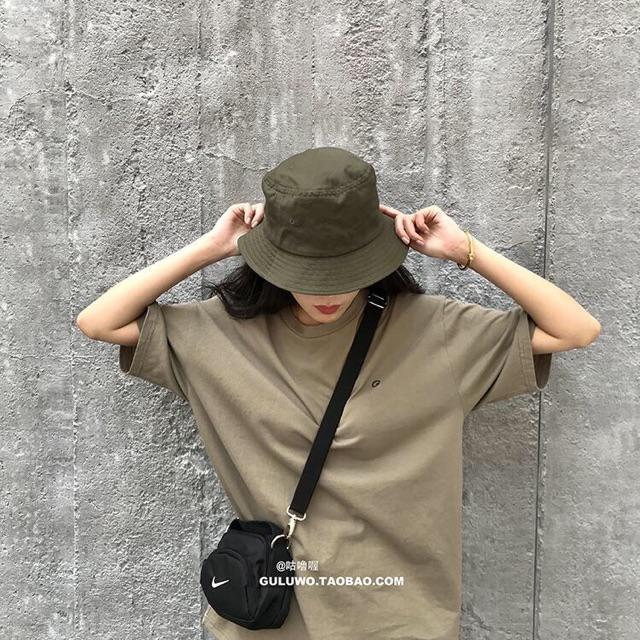Shirt: (119, 281, 547, 639)
